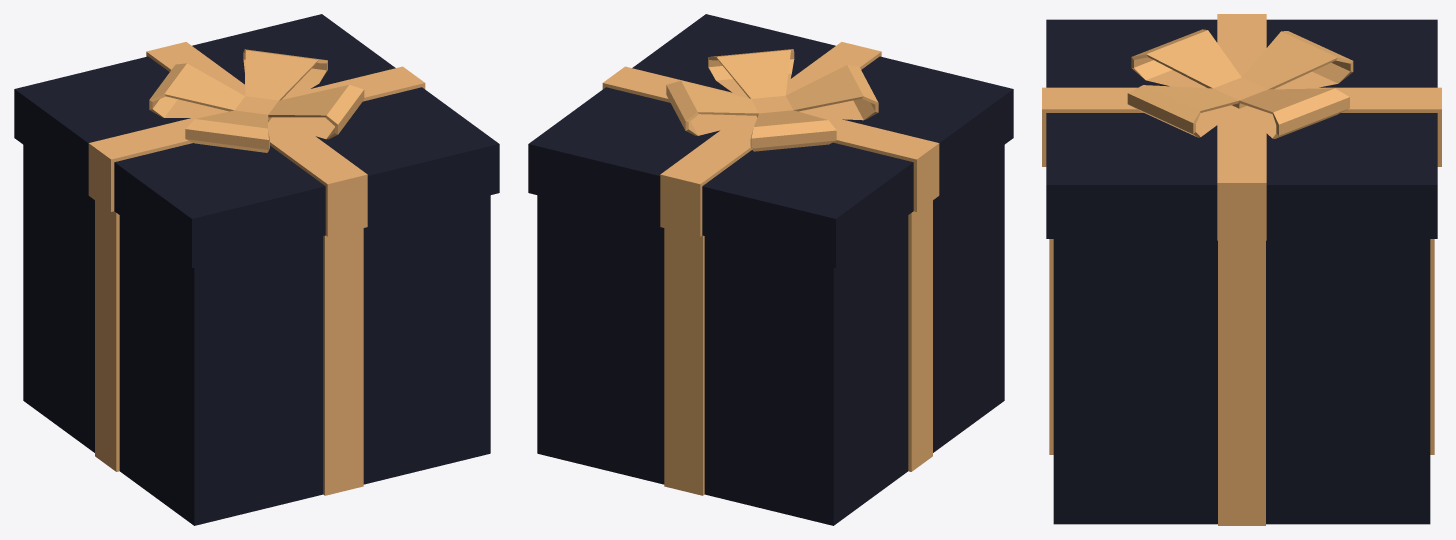
Rendered from Box.Gift01.fbx.
3 views of the same model, side by side, from view 1: azimuth 30°, elevation 25°; view 2: azimuth 150°, elevation 25°; view 3: azimuth 270°, elevation 25° (orthographic). The views are drawn at different scales.
Visible parts, largest first — view 1: Box.Gift.Bottom.001, Box.Gift.Top.001; view 2: Box.Gift.Bottom.001, Box.Gift.Top.001; view 3: Box.Gift.Bottom.001, Box.Gift.Top.001.
Boxes of the visible parts, x1,y1,x2,y2 form: Box.Gift.Bottom.001: [23, 145, 490, 525]; Box.Gift.Top.001: [14, 14, 499, 267]; Box.Gift.Bottom.001: [537, 145, 1004, 525]; Box.Gift.Top.001: [528, 14, 1013, 267]; Box.Gift.Bottom.001: [1049, 239, 1434, 525]; Box.Gift.Top.001: [1042, 14, 1441, 240].
Size of the model in its own units: 86.78 by 89.34 by 86.78.
